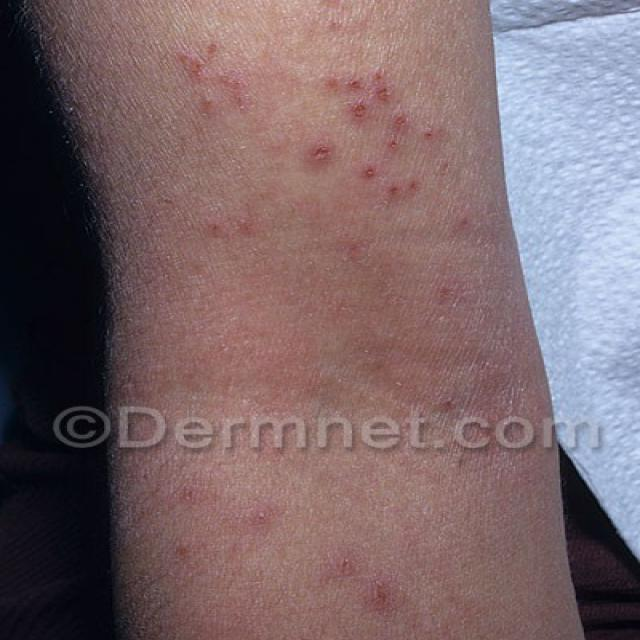Viral Infections: (144, 12, 502, 270), (163, 493, 528, 640)
